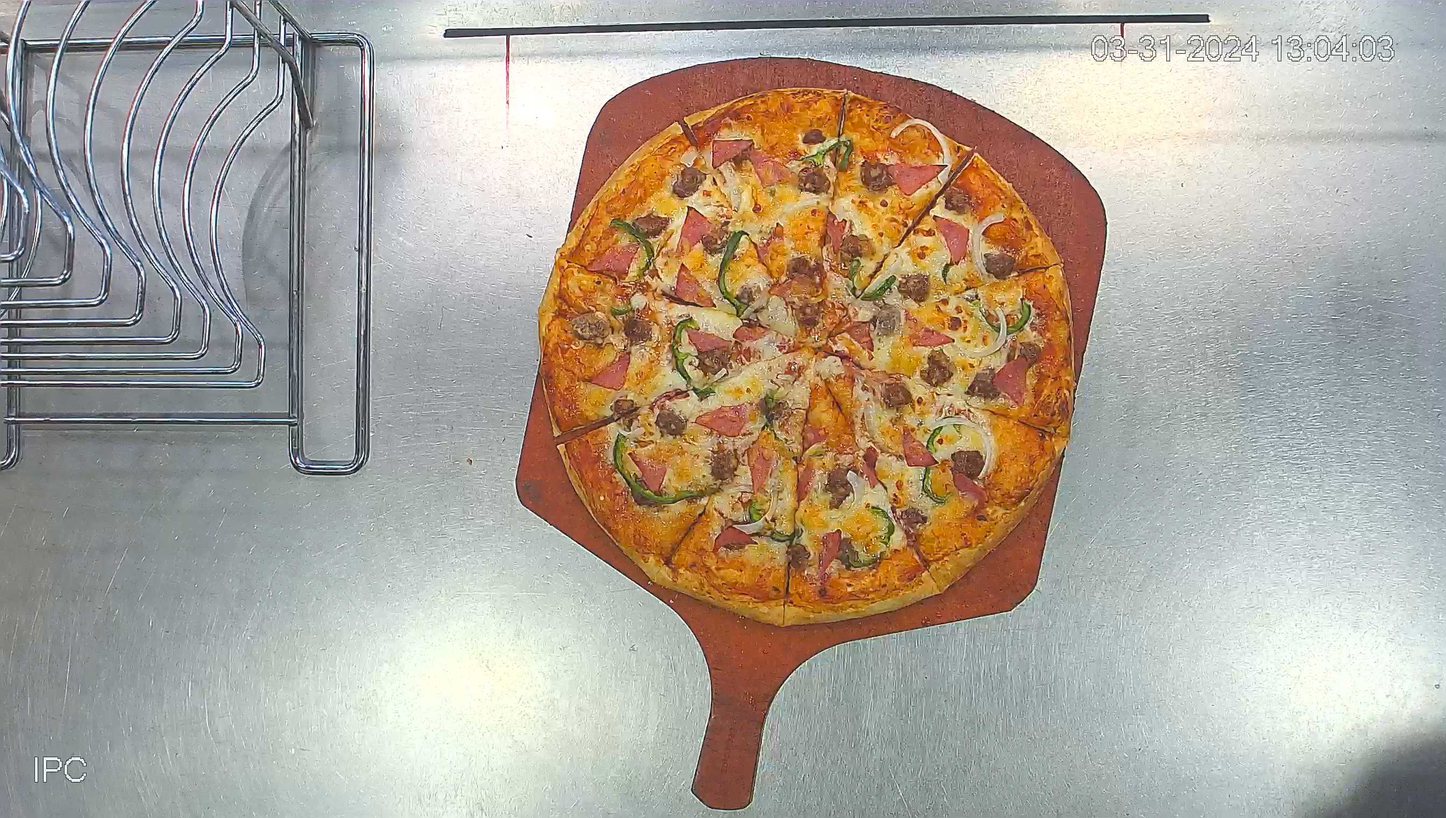hawaiian: (537, 86, 1079, 627)
